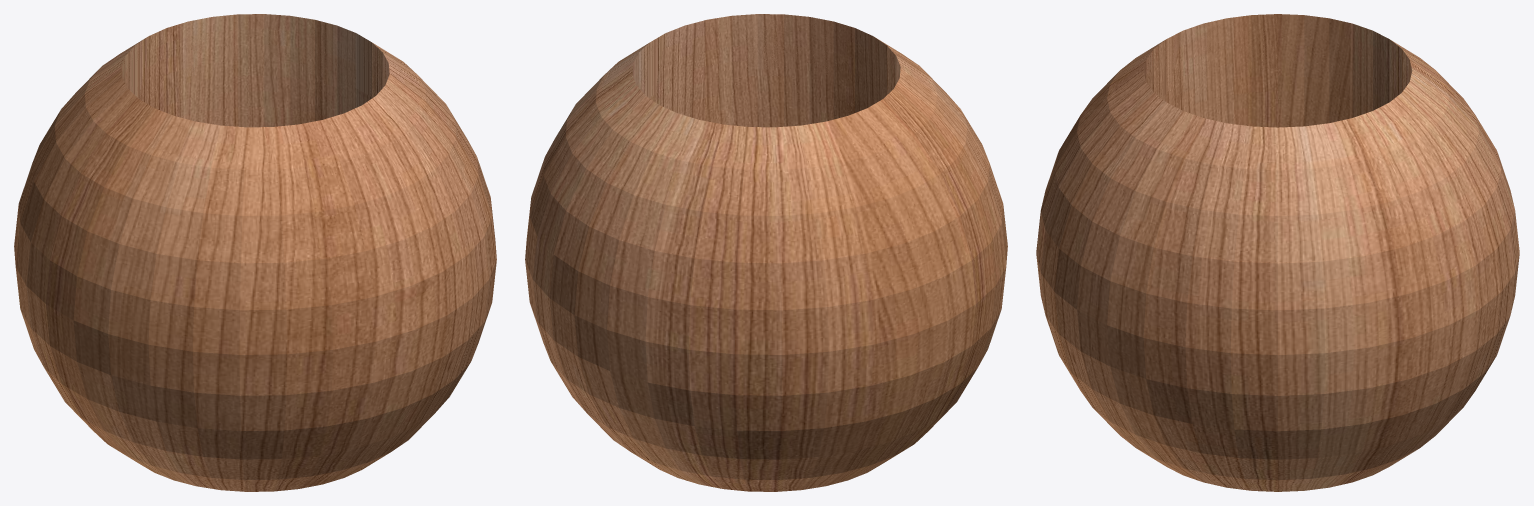
The model's file is light_wood_ball.fbx.
The picture shows the model from 3 angles, left to right: view 1: azimuth 30°, elevation 25°; view 2: azimuth 150°, elevation 25°; view 3: azimuth 270°, elevation 25°; orthographic projection.
Visible parts, largest first — view 1: Sphere; view 2: Sphere; view 3: Sphere.
Part boxes in pixels (box(x1,y1,x2,y2)): Sphere: box(14, 14, 496, 491); Sphere: box(525, 14, 1007, 491); Sphere: box(1036, 14, 1519, 491).
Bounding box in the file's own units: 200 × 166 × 200.
1 material, 1 textured.
